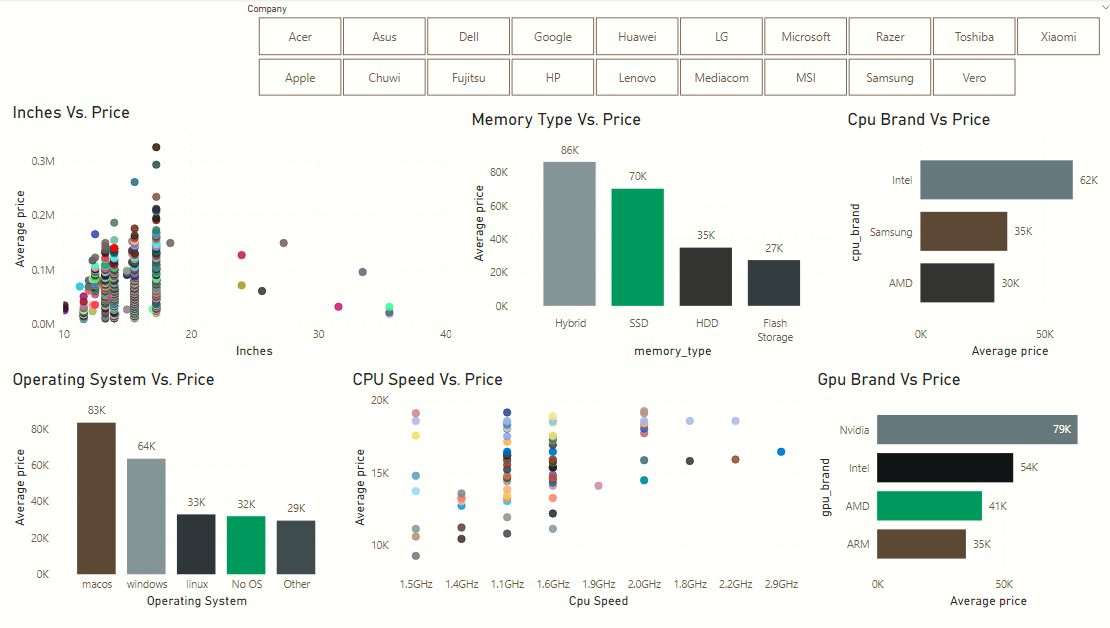

This screenshot's page, from the dashboard's own definition file:
{"tool":"powerbi","page":{"name":"Weight And Storage Analysis","canvas":[1280,720],"ordinal":3},"visuals":[{"type":"scatterChart","title":"Inches Vs. Price","fields":{"Series":["laptop_data.Price"],"Y":["laptop_data.Average price"],"X":["laptop_data.Inches"]},"box":[12.5,117.3,510.4,296.2],"z":0},{"type":"clusteredColumnChart","title":"Memory Type Vs. Price","fields":{"Category":["laptop_data.memory_type"],"Y":["laptop_data.Average price"]},"box":[535.4,125.3,418.1,288.2],"z":1000},{"type":"clusteredColumnChart","title":"Operating System Vs. Price","fields":{"Category":["laptop_data.Operating System"],"Y":["laptop_data.Average price"]},"box":[12.5,421.5,379.4,276.8],"z":2000},{"type":"scatterChart","title":"CPU Speed Vs. Price","fields":{"X":["laptop_data.Cpu Speed"],"Y":["laptop_data.Average price"],"Series":["laptop_data.Price"]},"box":[399.9,421.5,521.8,276.8],"z":3000},{"type":"clusteredBarChart","title":"Cpu Brand Vs Price","fields":{"Category":["laptop_data.cpu_brand"],"Y":["laptop_data.Average price"]},"box":[963.8,125.3,307.6,288.2],"z":4000},{"type":"clusteredBarChart","title":"Gpu Brand Vs Price","fields":{"Y":["laptop_data.Average price"],"Category":["laptop_data.gpu_brand"]},"box":[929.6,421.5,341.8,276.8],"z":5000},{"type":"slicer","fields":{"Values":["laptop_data.Company"]},"box":[272.3,0,1008.2,117.3],"z":6000}]}

Visuals, with their boxes in screenshot pixels (x1, y1, x2, y2), scaled from the page's 1280x720 canvas onto the 1110x628 screenshot:
"Inches Vs. Price" scatterChart: left=11, top=102, right=453, bottom=361
"Memory Type Vs. Price" clusteredColumnChart: left=464, top=109, right=827, bottom=361
"Operating System Vs. Price" clusteredColumnChart: left=11, top=368, right=340, bottom=609
"CPU Speed Vs. Price" scatterChart: left=347, top=368, right=799, bottom=609
"Cpu Brand Vs Price" clusteredBarChart: left=836, top=109, right=1103, bottom=361
"Gpu Brand Vs Price" clusteredBarChart: left=806, top=368, right=1103, bottom=609
slicer - laptop_data.Company: left=236, top=0, right=1109, bottom=102
